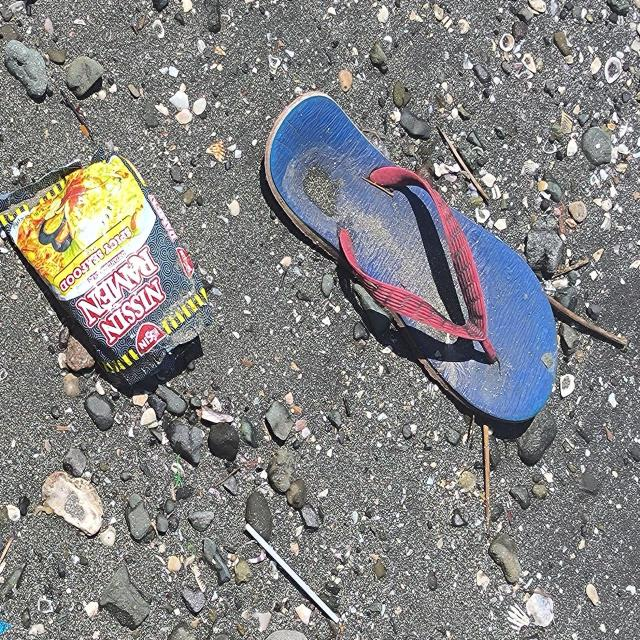plastic_waste: (2, 156, 212, 390), (245, 524, 345, 626)
rubber_waste: (263, 94, 563, 424)
